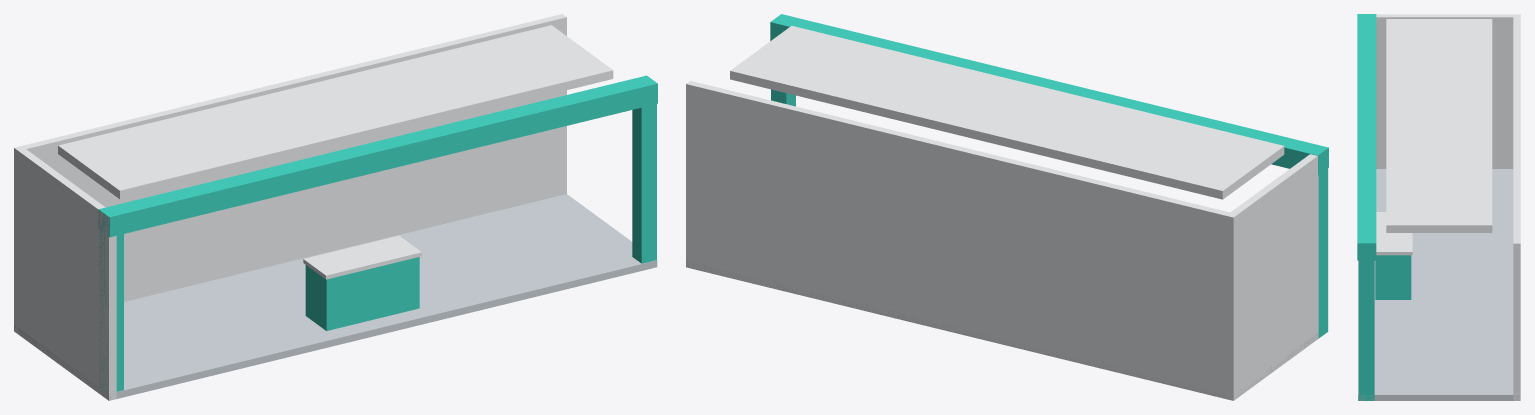
3 views of the same model, side by side, from view 1: azimuth 30°, elevation 25°; view 2: azimuth 150°, elevation 25°; view 3: azimuth 270°, elevation 25° (orthographic). The views are drawn at different scales.
Visible parts, largest first — view 1: Exhibition Booth Concept; view 2: Exhibition Booth Concept; view 3: Exhibition Booth Concept.
Part boxes in pixels (<box>): Exhibition Booth Concept: <box>14,14,657,400</box>; Exhibition Booth Concept: <box>686,14,1328,400</box>; Exhibition Booth Concept: <box>1357,14,1520,400</box>.
Size of the model in its own units: 10 by 3.34 by 3.01.
